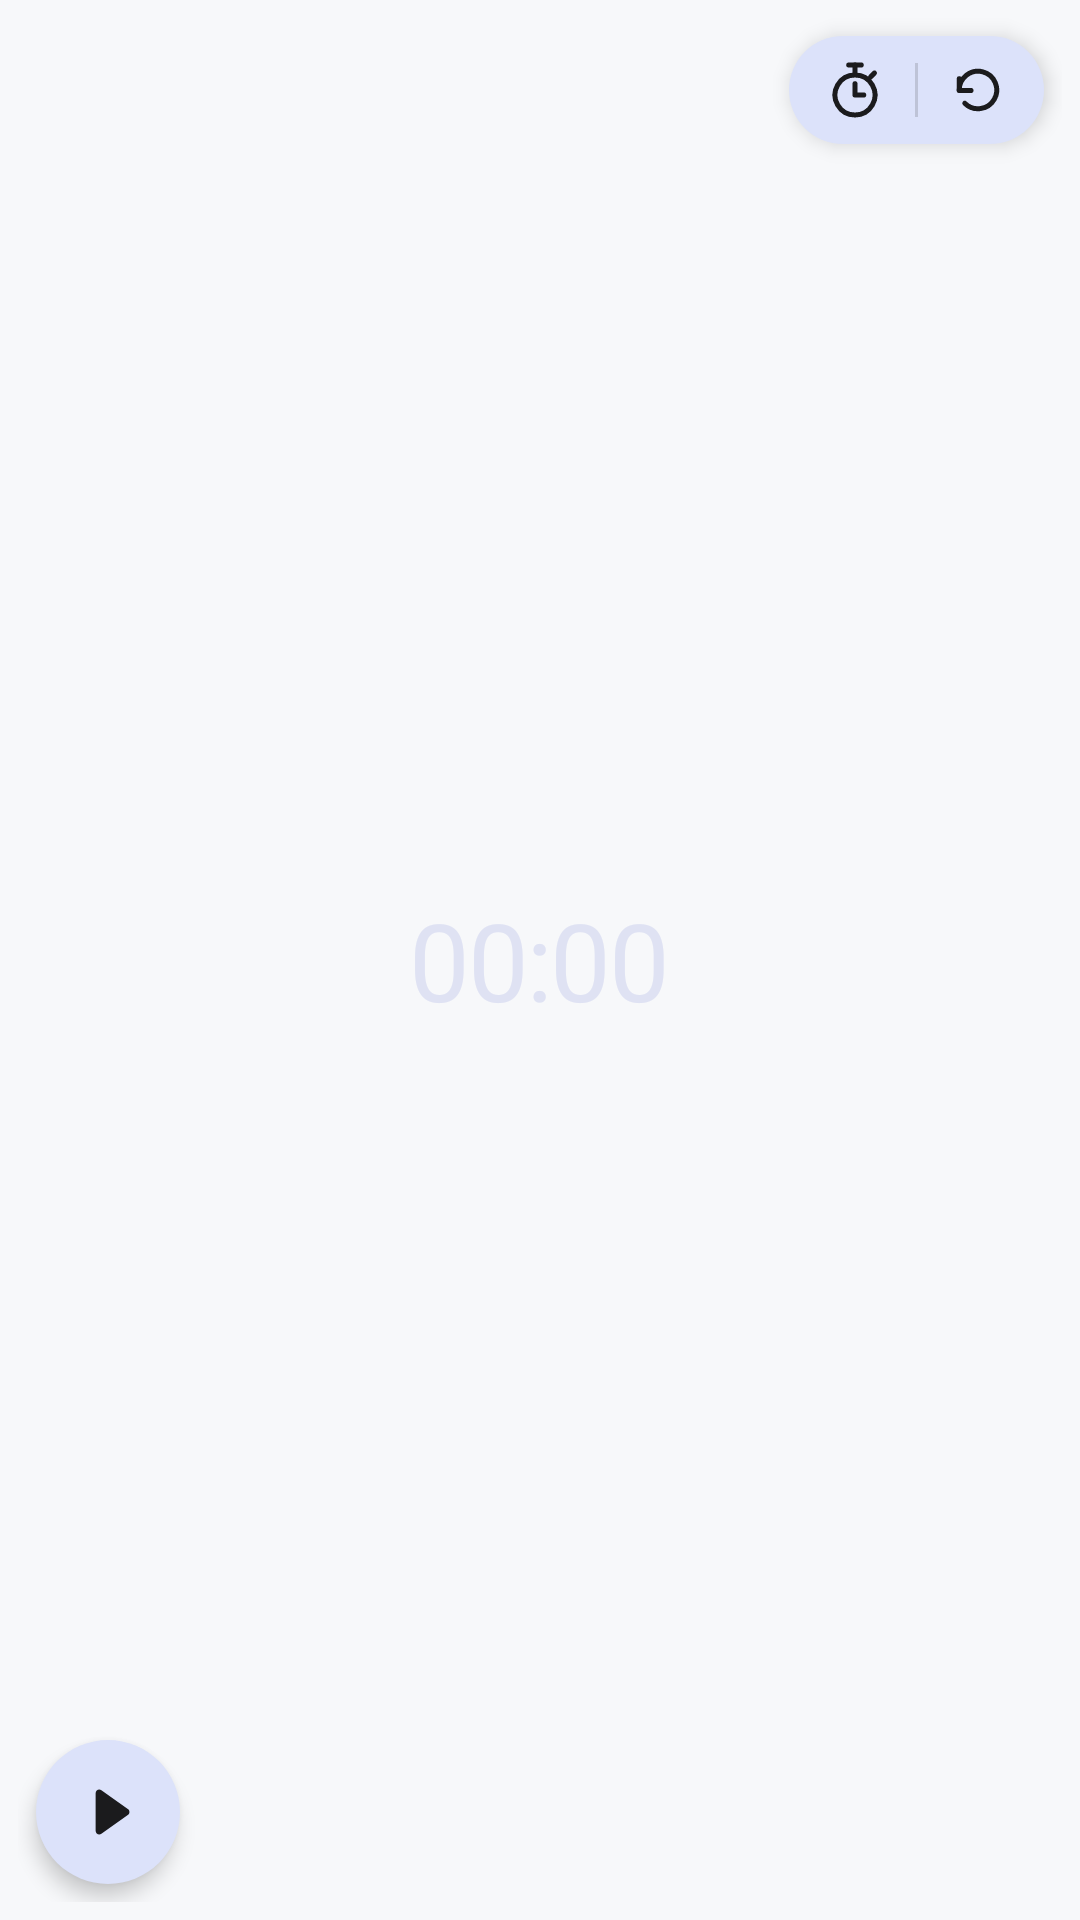

Point at icon controls on the screen. Image size 1080px x 1920px, points as [x,y].
widget lap: [855,90]
widget play: [112,1812]
widget reset: [978,90]
